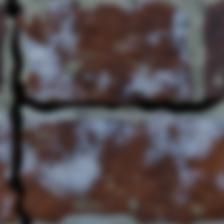brick: (18, 0, 195, 102), (204, 0, 223, 97), (0, 6, 6, 85)
broken_brick: (20, 117, 223, 223), (0, 120, 18, 223)
crack: (2, 0, 223, 223)
